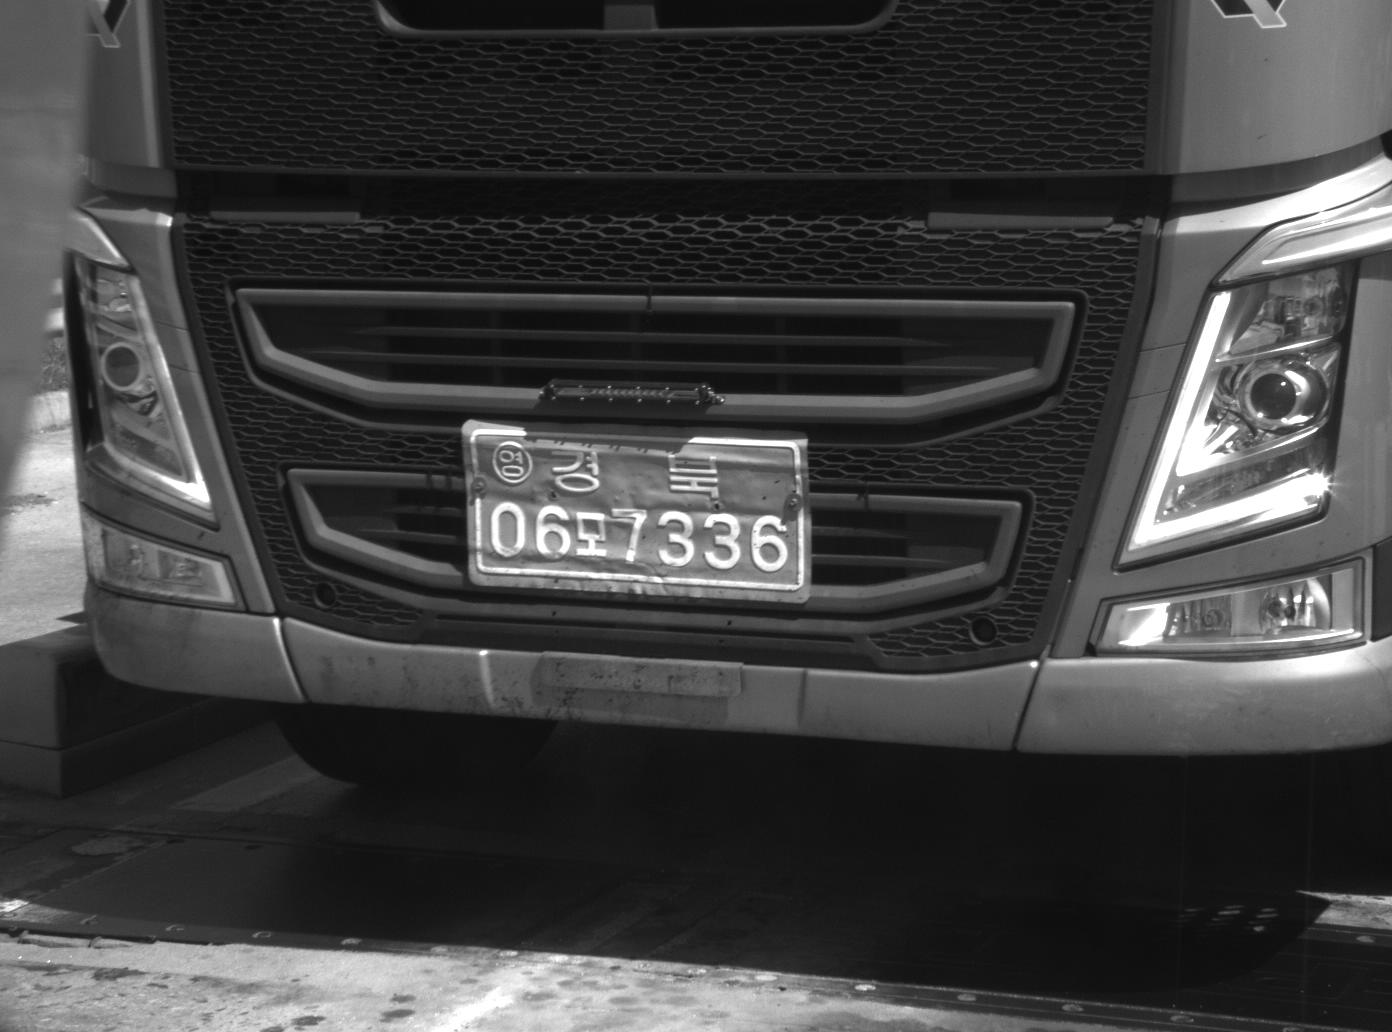car: (52, 1, 1392, 824)
plate: (463, 420, 810, 601)
